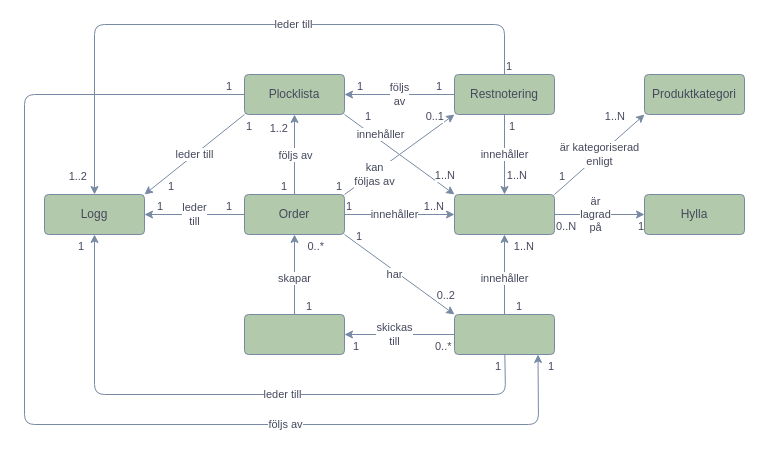
This 762x450 diagram has some shape labels left out. Here are the shapes that lost their labels. From the top down, the box of each, then its label:
(454, 194, 554, 234): Produkt
(244, 314, 344, 354): Kund
(454, 314, 554, 354): Faktura
